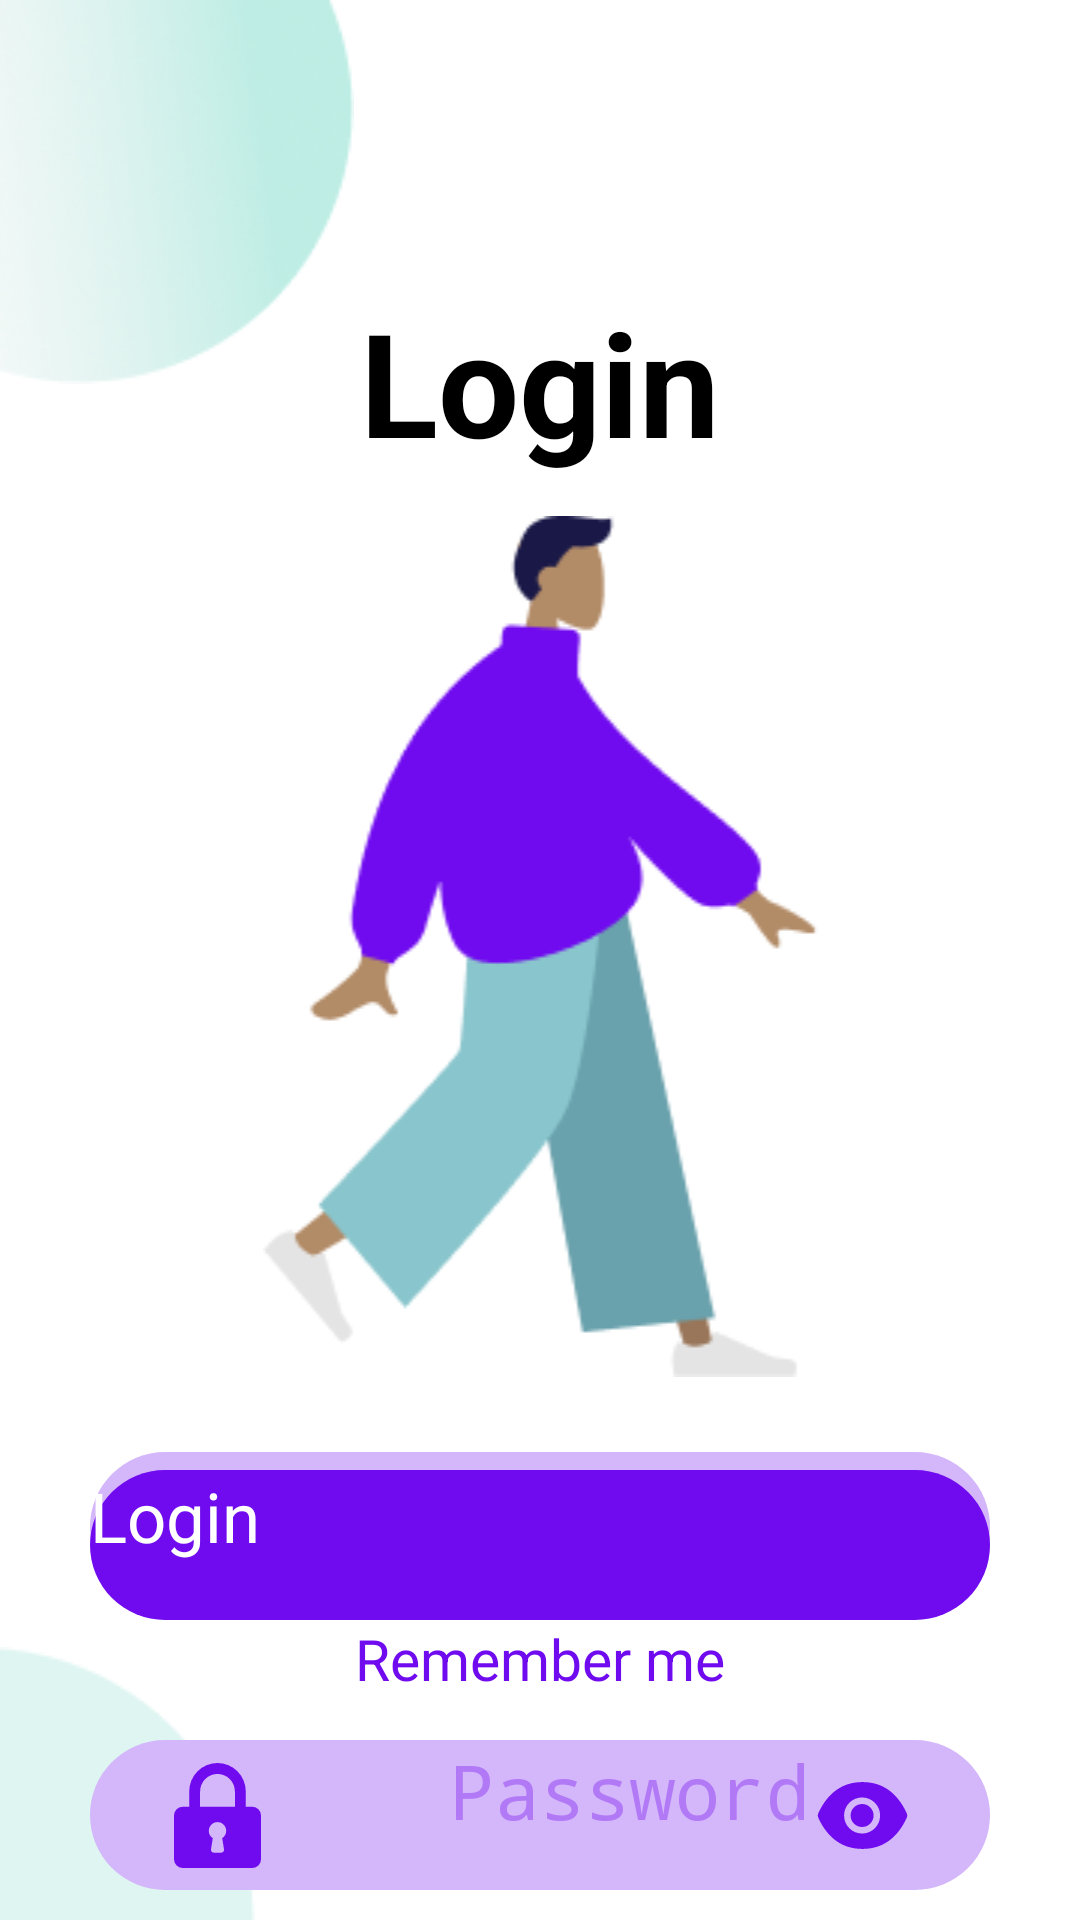

Icon bounding boxes for this 1080 × 1920 phone screenshot, format bbox=(x1, y1, x2, y2):
eyefilled: bbox=(817, 1782, 908, 1849)
